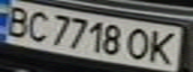1: (84, 19, 106, 54)
7: (45, 11, 72, 47), (63, 16, 90, 51)
8: (103, 21, 127, 57)
B: (0, 3, 33, 38)
C: (21, 8, 54, 43)
K: (145, 27, 184, 66)
O: (124, 26, 154, 62)
